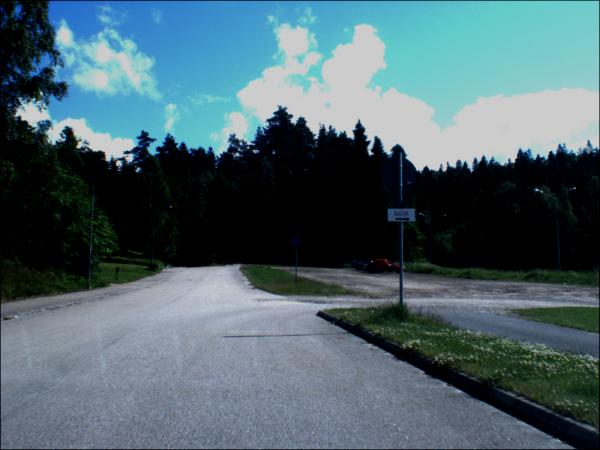NO_PARKING: (291, 236, 306, 251)
